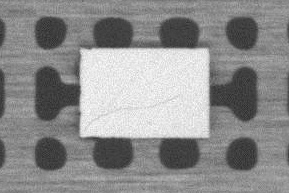DIE_CRACK: (84, 95, 180, 131)
